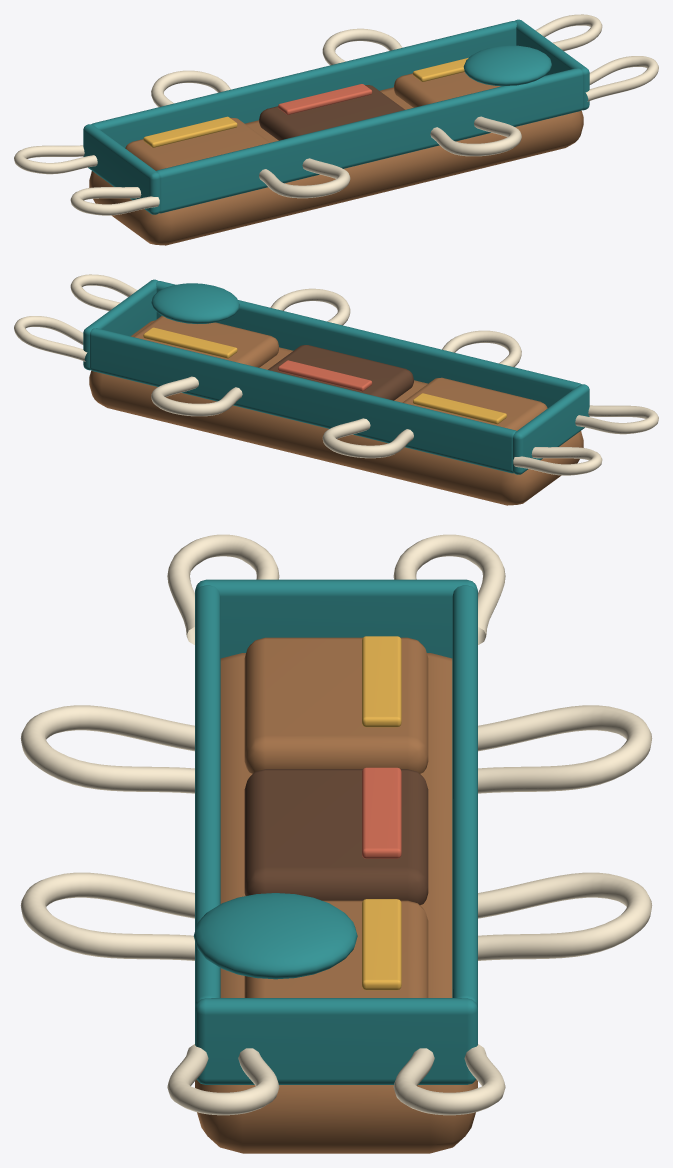
File: IntroToyKit.fbx
The picture shows the model from 3 angles, top to bottom: view 1: azimuth 30°, elevation 25°; view 2: azimuth 150°, elevation 25°; view 3: azimuth 270°, elevation 25°; orthographic projection. The views are drawn at different scales.
Parts seen in each view (by area): view 1: FoldedLongRim.001, LightCardboardBase, FoldedLongRim, WoodenToyBridgePiece.001, WoodenToyBridgePiece, FoldedShortRim, FamilyTreeCrown, WoodenToyBridgePiece.002, WideCarryLoop.003, WideCarryLoop.002, EndCarryLoop.001, EndCarryLoop (+8 smaller); view 2: FoldedLongRim, LightCardboardBase, FoldedLongRim.001, WoodenToyBridgePiece.001, FoldedShortRim, WoodenToyBridgePiece, WoodenToyBridgePiece.002, FamilyTreeCrown, FoldedShortRim.001, WideCarryLoop.001, WideCarryLoop, EndCarryLoop (+8 smaller); view 3: LightCardboardBase, FoldedShortRim.001, WoodenToyBridgePiece, WoodenToyBridgePiece.001, FoldedShortRim, FamilyTreeCrown, FoldedLongRim, FoldedLongRim.001, WideCarryLoop.001, WideCarryLoop, WideCarryLoop.003, WideCarryLoop.002 (+8 smaller).
Part boxes in pixels (x1,y1,x2,y2): FoldedLongRim.001: (156, 68, 582, 213); LightCardboardBase: (89, 87, 583, 245); FoldedLongRim: (91, 21, 516, 147); WoodenToyBridgePiece.001: (259, 85, 404, 140); WoodenToyBridgePiece: (125, 117, 270, 170); FoldedShortRim: (83, 124, 159, 214); FamilyTreeCrown: (463, 45, 551, 86); WoodenToyBridgePiece.002: (394, 72, 500, 107); WideCarryLoop.003: (430, 116, 521, 156); WideCarryLoop.002: (259, 158, 350, 198); EndCarryLoop.001: (70, 187, 159, 215); EndCarryLoop: (14, 145, 97, 174); FoldedLongRim: (90, 328, 516, 473); LightCardboardBase: (89, 320, 583, 505); FoldedLongRim.001: (156, 281, 581, 407); WoodenToyBridgePiece.001: (268, 345, 413, 400); FoldedShortRim: (513, 384, 589, 474); WoodenToyBridgePiece: (402, 377, 547, 430); WoodenToyBridgePiece.002: (133, 316, 278, 367); FamilyTreeCrown: (151, 283, 239, 323); FoldedShortRim.001: (83, 279, 158, 370); WideCarryLoop.001: (151, 376, 242, 416); WideCarryLoop: (322, 418, 413, 458); EndCarryLoop: (513, 447, 602, 475); LightCardboardBase: (195, 653, 477, 1153); FoldedShortRim.001: (195, 998, 477, 1084); WoodenToyBridgePiece: (244, 637, 428, 773); WoodenToyBridgePiece.001: (244, 769, 428, 905); FoldedShortRim: (195, 579, 477, 658); FamilyTreeCrown: (193, 893, 357, 979); FoldedLongRim: (452, 585, 477, 1008); FoldedLongRim.001: (195, 585, 220, 1008); WideCarryLoop.001: (478, 872, 652, 960); WideCarryLoop: (478, 705, 652, 793); WideCarryLoop.003: (20, 872, 194, 960); WideCarryLoop.002: (20, 705, 194, 793).
Size of the model in its own units: 95.06 by 14.9 by 44.66.
